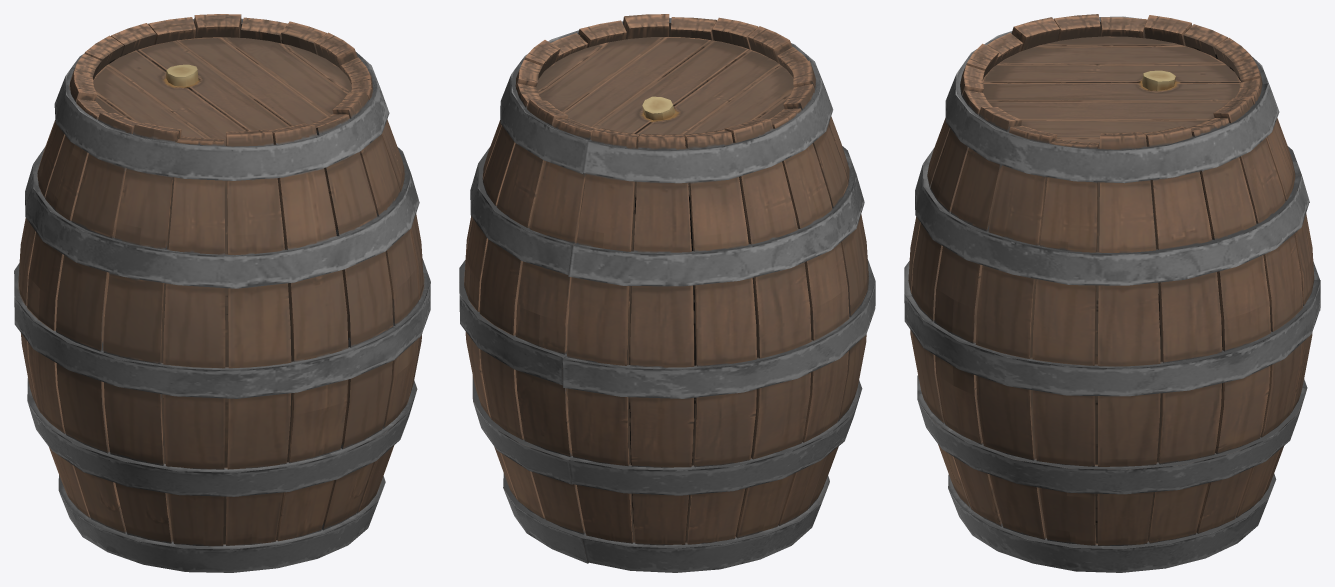
The model's file is Barrel_3.fbx.
The picture shows the model from 3 angles, left to right: view 1: azimuth 30°, elevation 25°; view 2: azimuth 150°, elevation 25°; view 3: azimuth 270°, elevation 25°; orthographic projection.
Visible parts, largest first — view 1: Barrel_3_LOD0; view 2: Barrel_3_LOD0; view 3: Barrel_3_LOD0.
Part boxes in pixels (x1,y1,x2,y2): Barrel_3_LOD0: [14, 14, 430, 572]; Barrel_3_LOD0: [459, 14, 875, 572]; Barrel_3_LOD0: [904, 14, 1320, 572].
Size of what is drawn, in the model's own units: 104 by 120 by 104.
